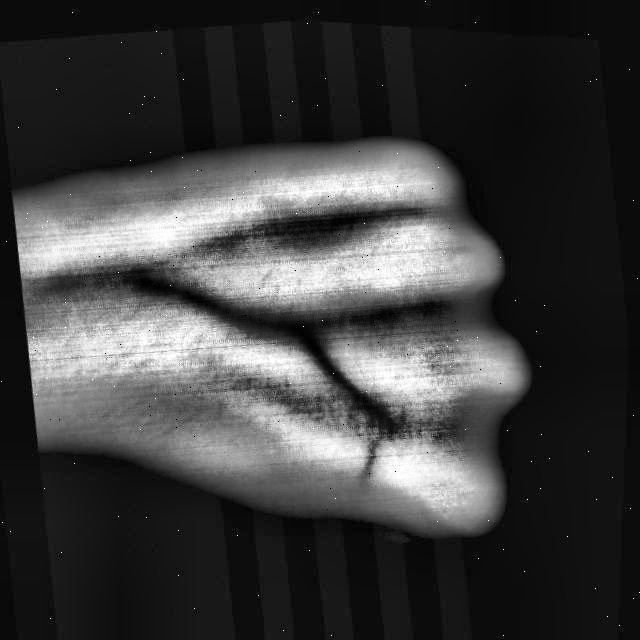Vein: (119, 263, 290, 342)
